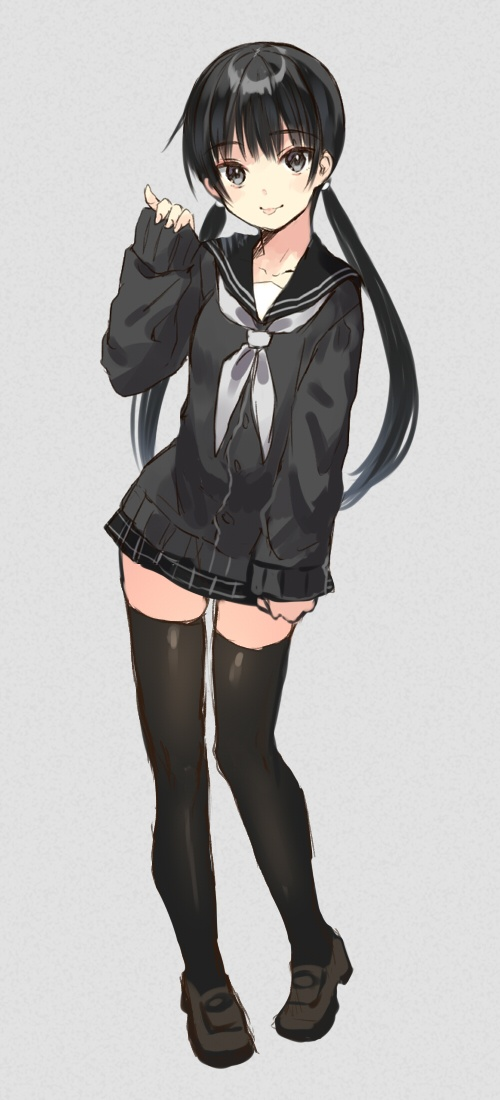纸片人正脸: (169, 35, 350, 236)
